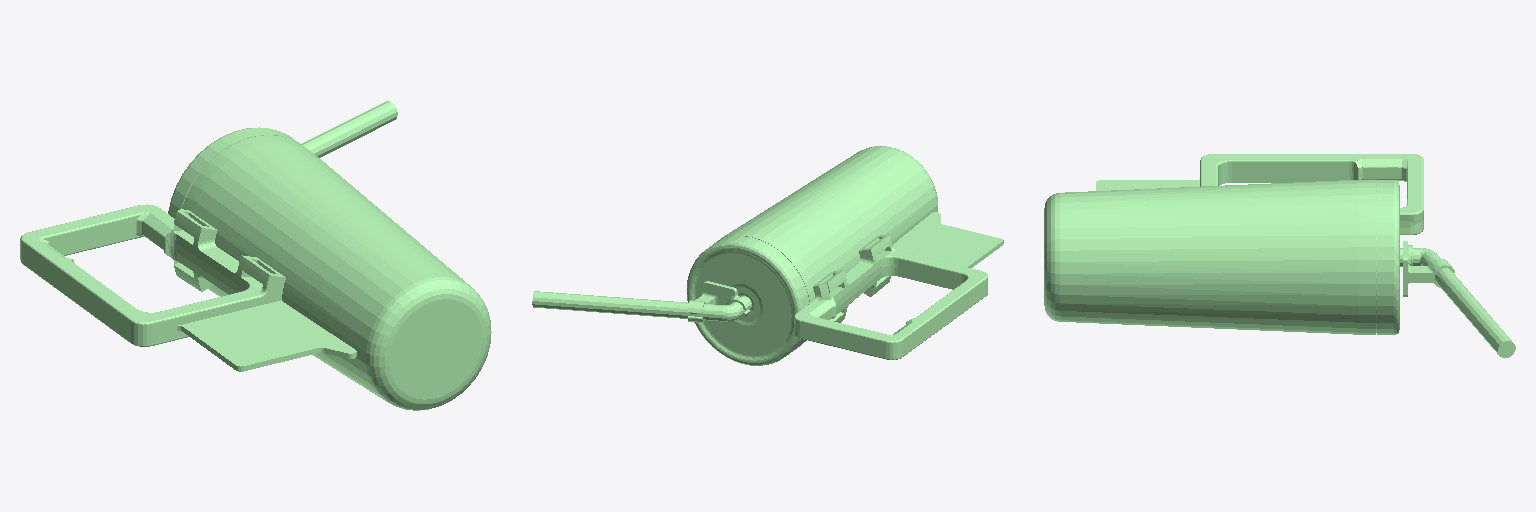
The robot description file, URDF, robot "drinking_utensil":
<?xml version="1.0" ?>
<robot name="drinking_utensil">
  <link name="drinkbase">
    <inertial>
      <origin rpy="0 0 0" xyz="0 0 0"/>
      <mass value="0.072775"/>
      <inertia ixx="1.821E-05" ixy="-4.1084E-09" ixz="-1.448E-07" iyy="1.062E-05" iyz="-1.5136E-09" izz="1.0557E-05"/>
    </inertial>
    <visual>
      <origin rpy="0 0 0" xyz="0 0 0"/>
      <geometry>
        <mesh filename="mug_with_holder.obj"/>
      </geometry>
      <material name="bluish">
        <color rgba="0.75294 1 0.75294 1"/>
      </material>
    </visual>
    <collision>
      <origin rpy="0 0 0" xyz="0 0 0"/>
      <geometry>
        <mesh filename="mug_with_holder.obj"/>
      </geometry>
    </collision>
  </link>
</robot>

--- What the picture shows (computed from the rendered views, not written in the file) ---
3 views of the same robot in one strip: view 1: azimuth 30°, elevation 25°; view 2: azimuth 150°, elevation 25°; view 3: azimuth 270°, elevation 25° (orthographic).
Model drinking_utensil with 1 links and 0 joints (none), rooted at drinkbase, posed all joints at 0.
Visible links, largest first — view 1: drinkbase; view 2: drinkbase; view 3: drinkbase.
Boxes of the visible links, box(x1,y1,x2,y2) form: drinkbase: box(20, 101, 491, 410); drinkbase: box(532, 146, 1003, 365); drinkbase: box(1044, 154, 1515, 357).
Size in the robot's own frame: 0.249 by 0.2652 by 0.0875 metres.
Meshes: 1 distinct files referenced, 1 mesh visuals loaded (1 OBJ).